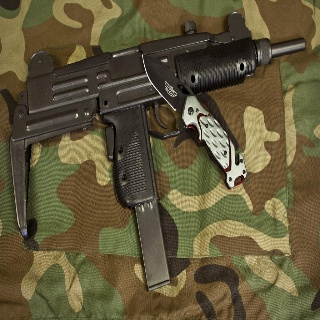rifle: (6, 10, 307, 294)
